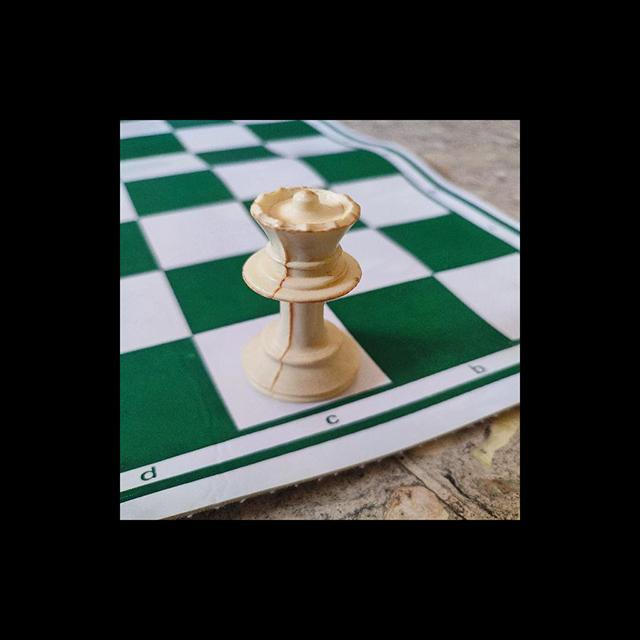white-queen: (234, 178, 379, 412)
